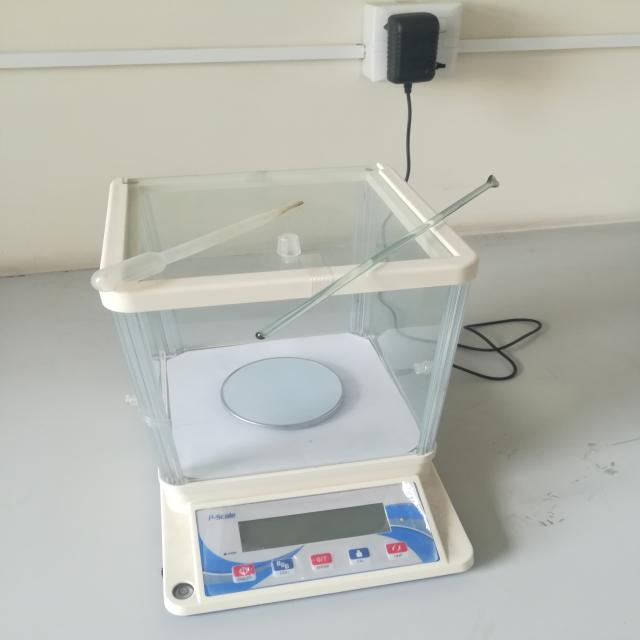Glass_Rod: (243, 164, 532, 356)
Pipette: (78, 184, 342, 305)
